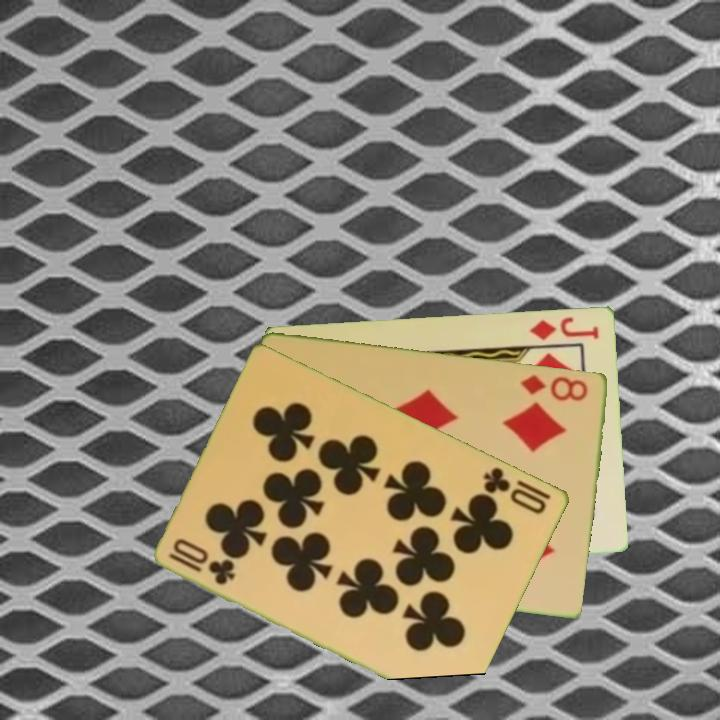10c: (166, 535, 239, 588), (480, 463, 550, 517)
8d: (517, 371, 591, 404)
Jd: (527, 313, 602, 343)
